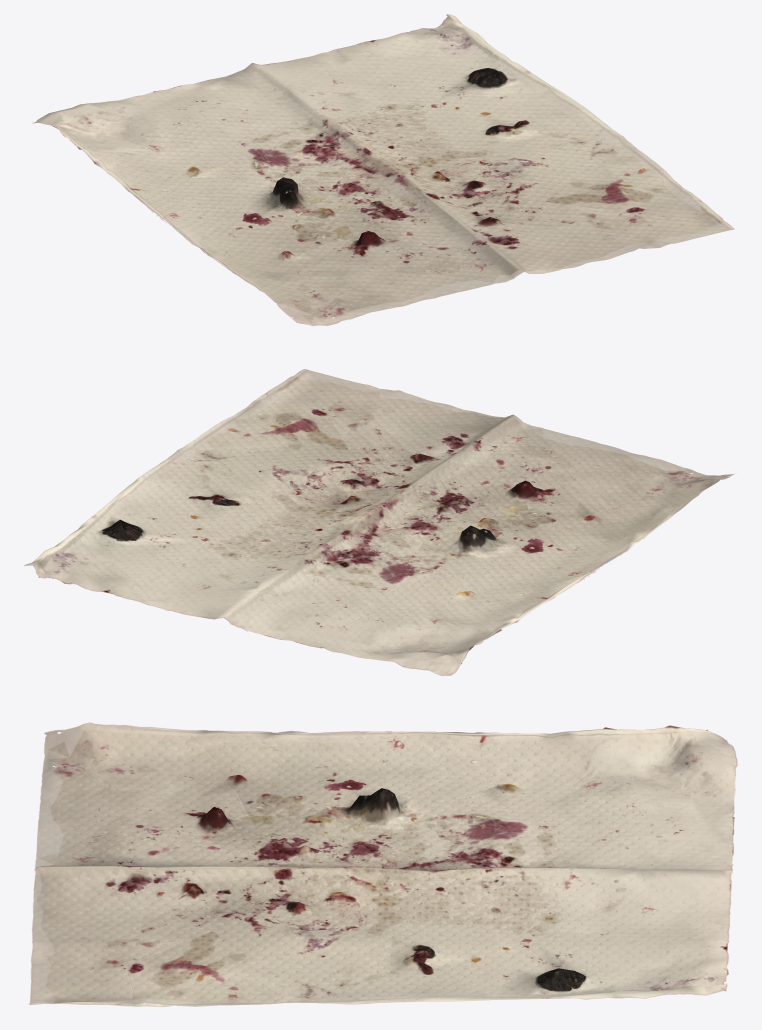
Rendered from dirty_tissue.glb.
3 renders of one model, top to bottom at view 1: azimuth 30°, elevation 25°; view 2: azimuth 150°, elevation 25°; view 3: azimuth 270°, elevation 25°, orthographic. The views are drawn at different scales.
Parts seen in each view (by area): view 1: Tissue_01_low; view 2: Tissue_01_low; view 3: Tissue_01_low.
Boxes of the visible parts, bbox=[...] form: Tissue_01_low: bbox=[32, 14, 733, 325]; Tissue_01_low: bbox=[24, 369, 733, 675]; Tissue_01_low: bbox=[29, 722, 737, 1006].
Bounding box in the file's own units: 1.83 × 0.126 × 2.
Materials: 1 (1 with a texture image).
